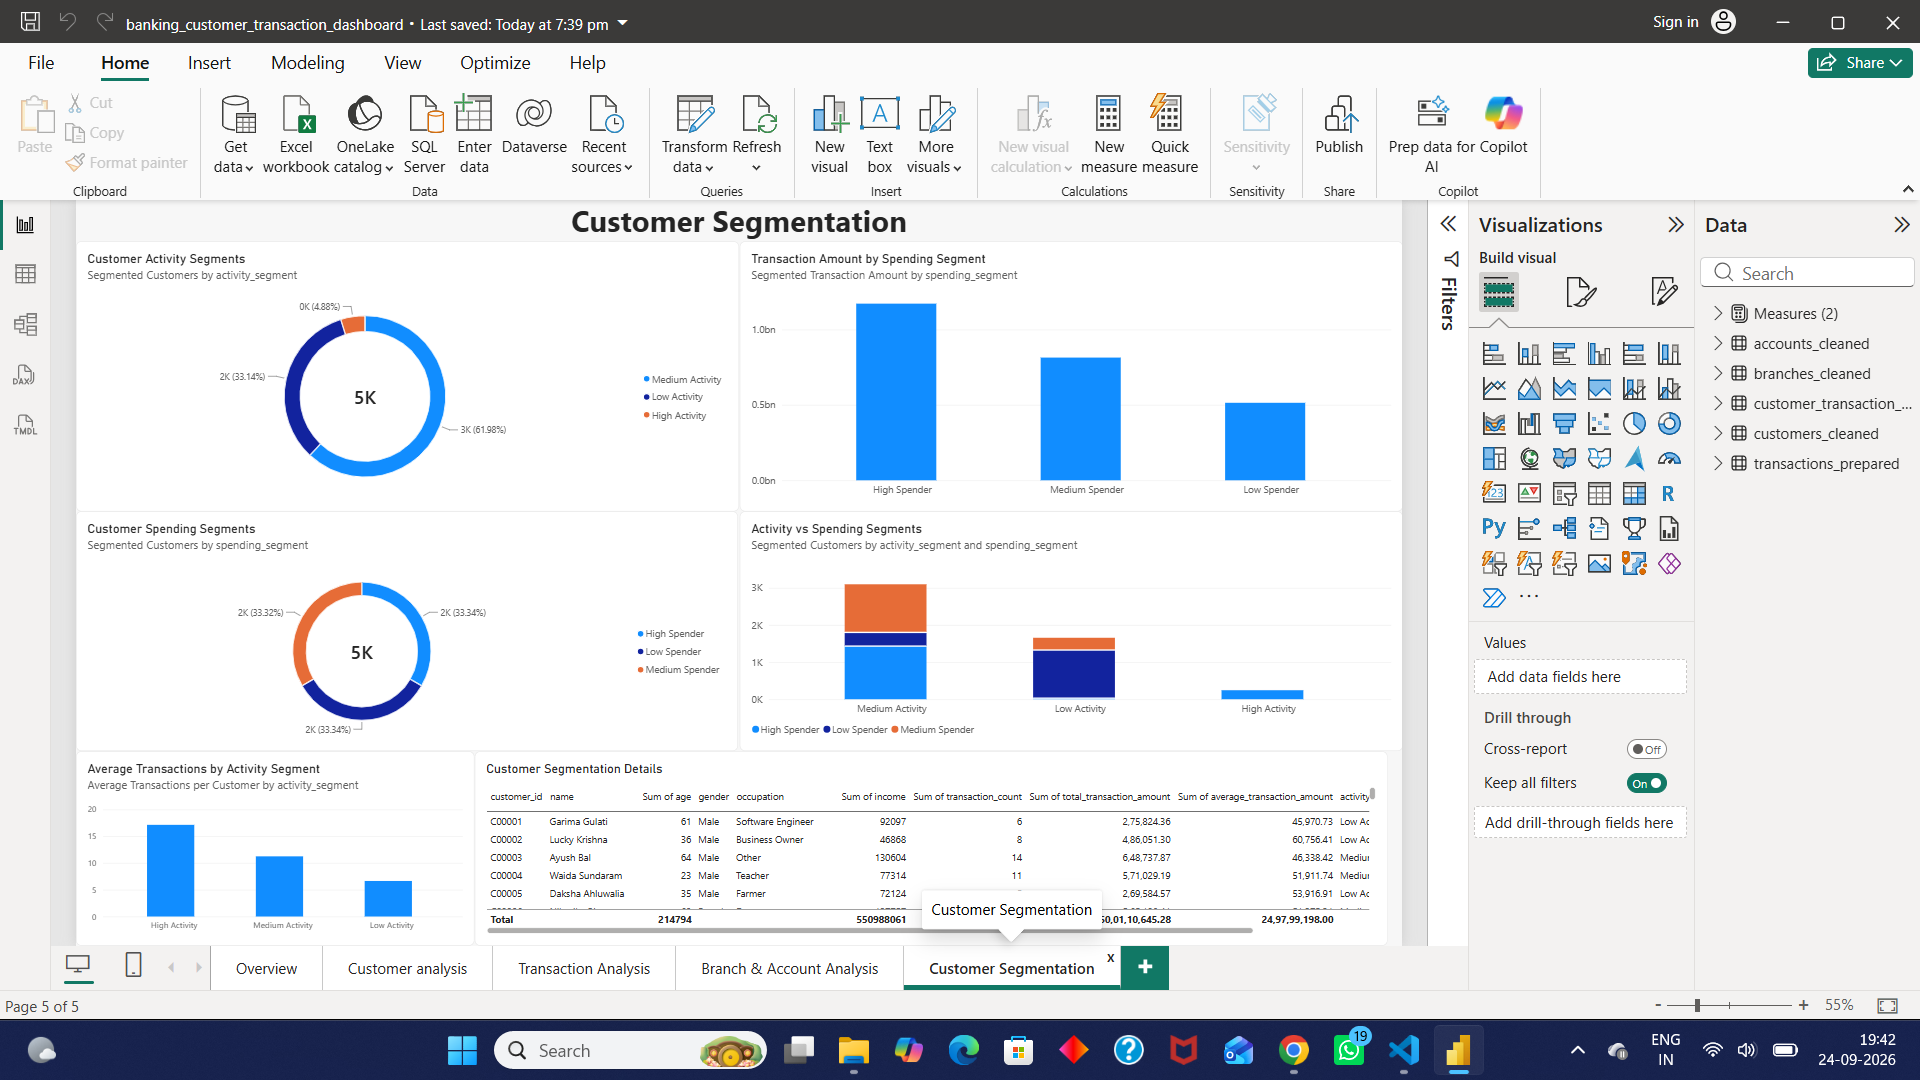

The page's visual inventory and layout, read from the dashboard file:
{"tool":"powerbi","page":{"name":"Customer Segmentation","canvas":[1920,1080],"ordinal":4},"visuals":[{"type":"textbox","box":[0,0,1920.1,59.7],"z":0},{"type":"donutChart","title":"Customer Activity Segments","fields":{"Category":["customer_transaction_segments.activity_segment"],"Y":["Measures (2).Segmented Customers"]},"box":[0,59.9,960.2,391.3],"z":1},{"type":"donutChart","title":"Customer Spending Segments","fields":{"Category":["customer_transaction_segments.spending_segment"],"Y":["Measures (2).Segmented Customers"]},"box":[0,451.2,958.2,347.3],"z":2},{"type":"columnChart","title":"Activity vs Spending Segments","fields":{"Category":["customer_transaction_segments.activity_segment"],"Series":["customer_transaction_segments.spending_segment"],"Y":["Measures (2).Segmented Customers"]},"box":[960.2,451.2,960.2,347.3],"z":3},{"type":"columnChart","title":"Average Transactions by Activity Segment","fields":{"Category":["customer_transaction_segments.activity_segment"],"Y":["Measures (2).Average Transactions per Customer"]},"box":[0,798.5,576.9,281.5],"z":4},{"type":"columnChart","title":"Transaction Amount by Spending Segment","fields":{"Category":["customer_transaction_segments.spending_segment"],"Y":["Measures (2).Segmented Transaction Amount"]},"box":[960.2,59.9,960.2,391.3],"z":5},{"type":"tableEx","title":"Customer Segmentation Details","fields":{"Values":["customer_transaction_segments.customer_id","customer_transaction_segments.name","Sum(customer_transaction_segments.age)","customer_transaction_segments.gender","customer_transaction_segments.occupation","Sum(customer_transaction_segments.income)","Sum(customer_transaction_segments.transaction_count)","Sum(customer_transaction_segments.total_transaction_amount)","Sum(customer_transaction_segments.average_transaction_amount)","customer_transaction_segments.activity_segment","customer_transaction_segments.spending_segment"]},"box":[576.9,798.5,1321.5,281.5],"z":6}]}

Visuals, with their boxes on the page's 1920x1080 design canvas (x1, y1, x2, y2). These are canvas units, not pixel positions in the 1920x1080 screenshot, which may show the page scaled, cropped or inside an application window:
textbox: (left=0, top=0, right=1920, bottom=60)
"Customer Activity Segments" donutChart: (left=0, top=60, right=960, bottom=451)
"Customer Spending Segments" donutChart: (left=0, top=451, right=958, bottom=798)
"Activity vs Spending Segments" columnChart: (left=960, top=451, right=1920, bottom=798)
"Average Transactions by Activity Segment" columnChart: (left=0, top=798, right=577, bottom=1080)
"Transaction Amount by Spending Segment" columnChart: (left=960, top=60, right=1920, bottom=451)
"Customer Segmentation Details" tableEx: (left=577, top=798, right=1898, bottom=1080)
